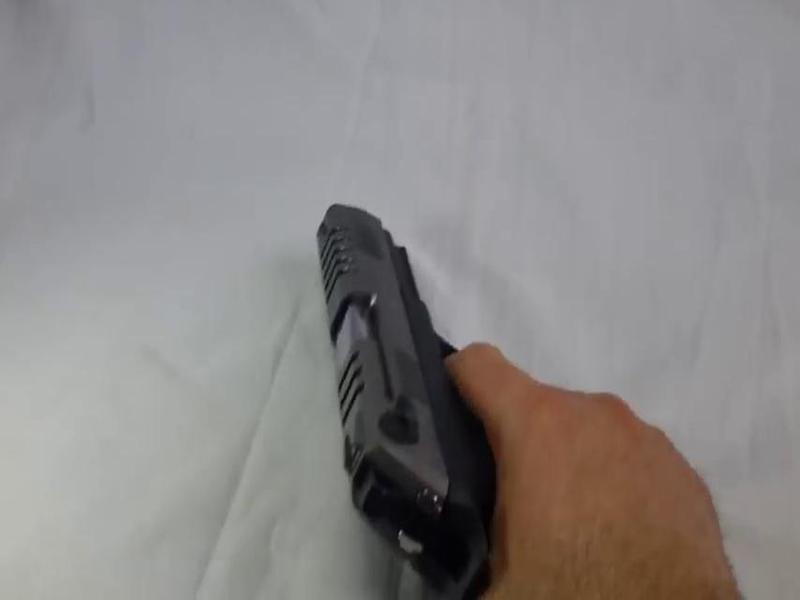Pistola: (296, 198, 543, 551)
